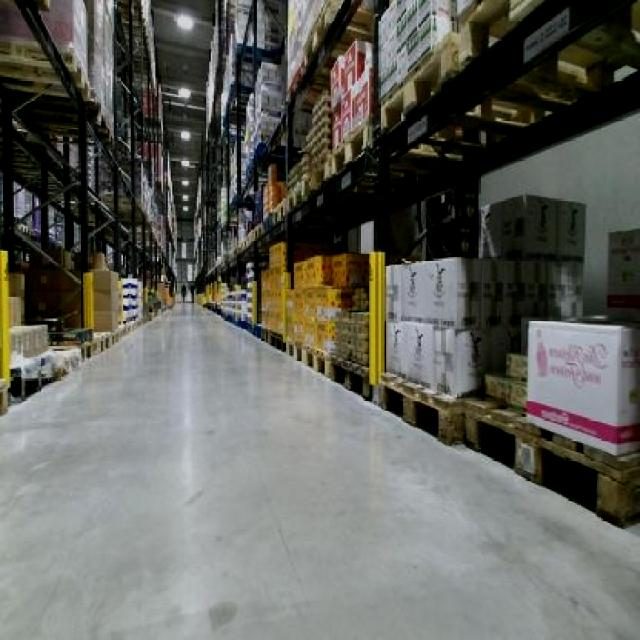floor: (0, 303, 637, 637)
pallets: (525, 318, 637, 452)
